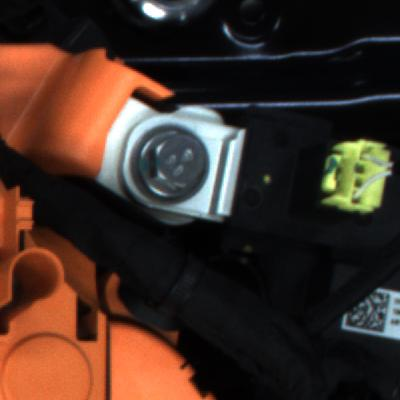nut_b: (126, 121, 218, 213)
